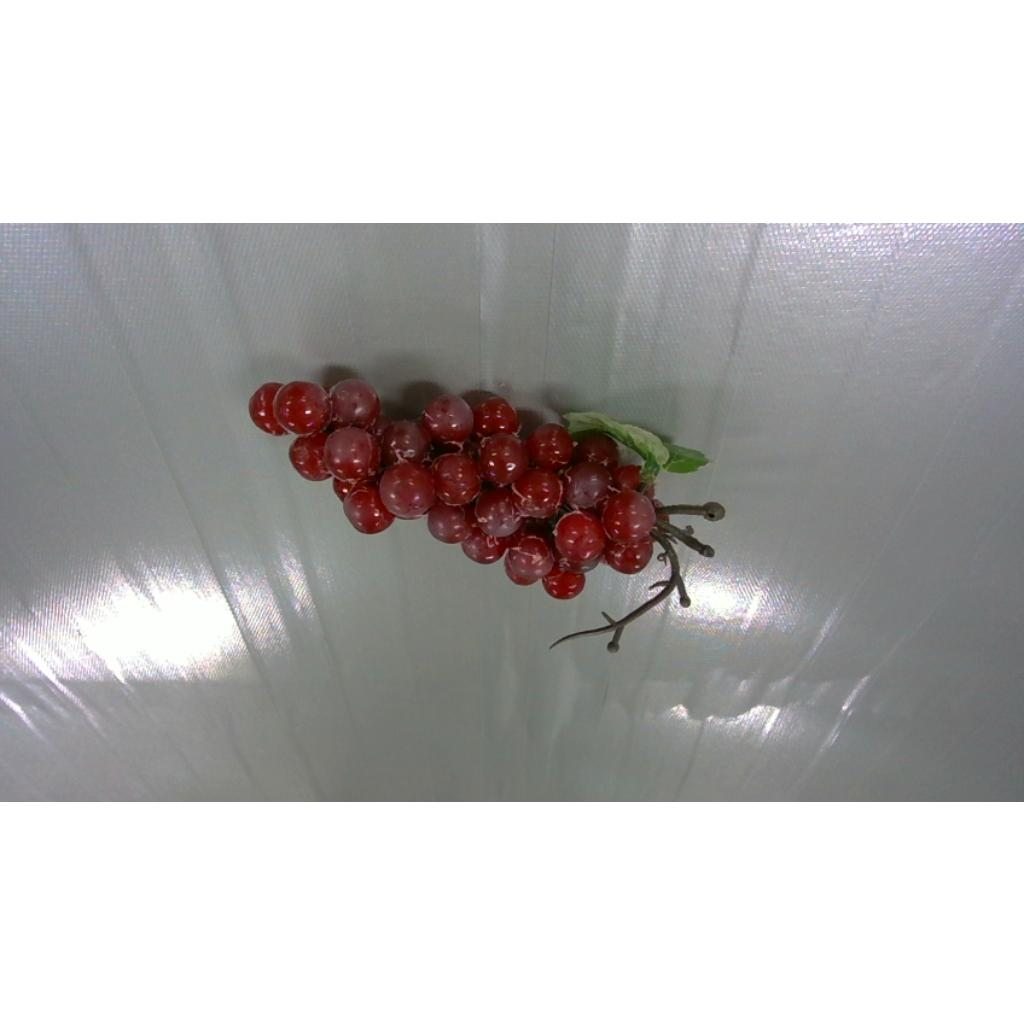grape: (250, 378, 726, 651)
